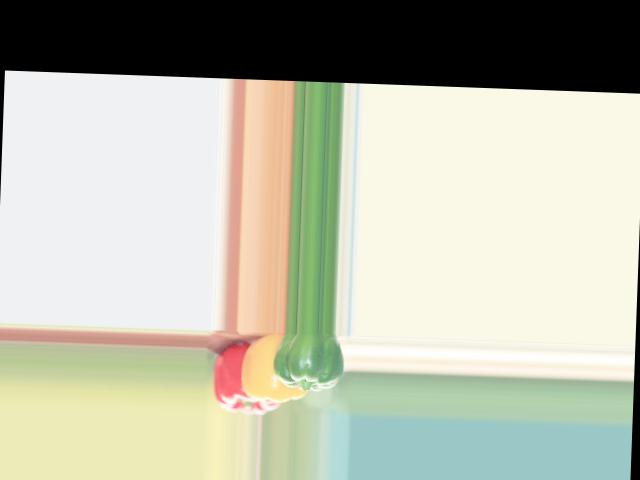bell_pepper: (213, 333, 283, 414)
